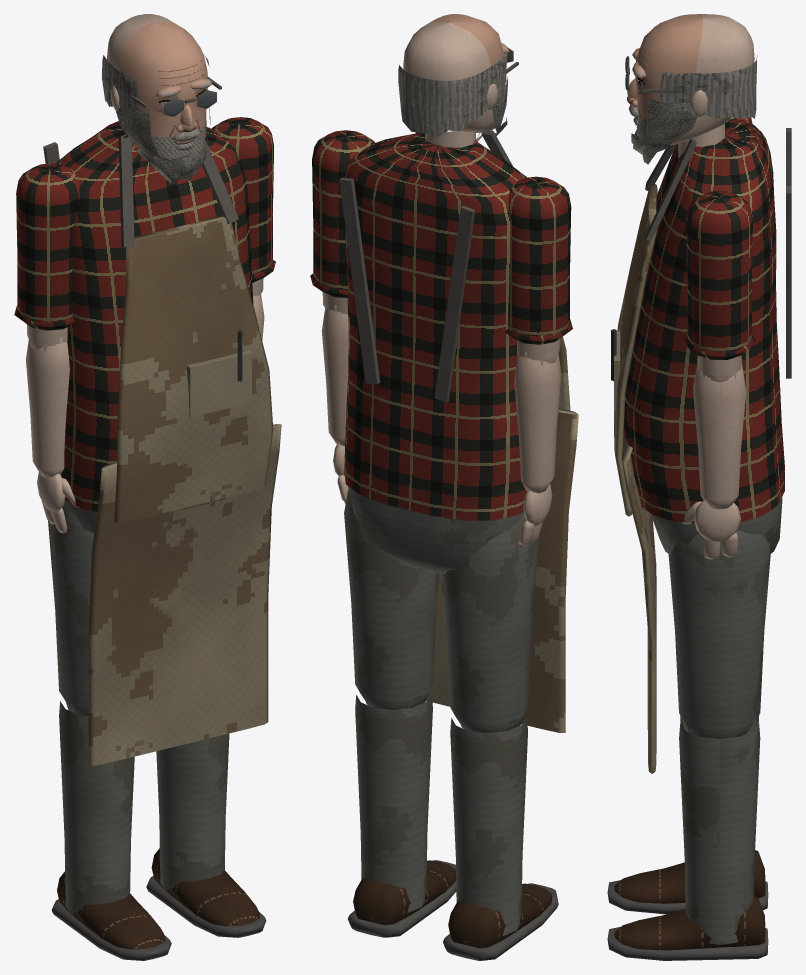
Rendered from char_grady.glb.
3 renders of one model, left to right at view 1: azimuth 30°, elevation 25°; view 2: azimuth 150°, elevation 25°; view 3: azimuth 270°, elevation 25°, orthographic.
Parts seen in each view (by area): view 1: Spine, Hips, Head, ShinR, UpperArmR, ShinL, ThighR, UpperArmL, ForearmR, FootR, FootL, HandR; view 2: Spine, Hips, ThighR, ShinL, ShinR, ThighL, Head, UpperArmR, UpperArmL, ForearmR, FootR, FootL (+2 smaller); view 3: Spine, ThighL, Head, ShinL, UpperArmL, ForearmL, FootL, Hips, FootR, HandL.
Boxes of the visible parts, bbox=[...] form: Spine: bbox=[43, 121, 273, 522]; Hips: bbox=[63, 424, 281, 765]; Head: bbox=[102, 14, 221, 183]; ShinR: bbox=[59, 701, 134, 917]; UpperArmR: bbox=[14, 163, 79, 347]; ShinL: bbox=[156, 733, 229, 894]; ThighR: bbox=[48, 506, 94, 711]; UpperArmL: bbox=[212, 117, 275, 296]; ForearmR: bbox=[26, 337, 69, 478]; FootR: bbox=[51, 871, 171, 960]; FootL: bbox=[146, 848, 266, 937]; HandR: bbox=[37, 472, 79, 533]; Spine: bbox=[339, 130, 570, 520]; Hips: bbox=[348, 408, 578, 732]; ThighR: bbox=[442, 514, 538, 733]; ShinL: bbox=[355, 688, 432, 912]; ShinR: bbox=[450, 711, 527, 935]; ThighL: bbox=[344, 489, 439, 710]; Head: bbox=[398, 14, 518, 147]; UpperArmR: bbox=[505, 176, 572, 361]; UpperArmL: bbox=[310, 130, 375, 313]; ForearmR: bbox=[514, 351, 561, 493]; FootR: bbox=[443, 883, 558, 960]; FootL: bbox=[348, 860, 456, 937]; Spine: bbox=[611, 119, 791, 522]; ThighL: bbox=[668, 530, 770, 737]; Head: bbox=[625, 14, 757, 164]; ShinL: bbox=[679, 715, 760, 944]; UpperArmL: bbox=[683, 190, 755, 377]; ForearmL: bbox=[693, 359, 745, 509]; FootL: bbox=[607, 896, 768, 960]; Hips: bbox=[621, 435, 782, 773]; FootR: bbox=[607, 850, 768, 914]; HandL: bbox=[682, 500, 740, 559].
Bounding box in the file's own units: 0.5082 × 1.74 × 0.3197.
12 materials, 12 textured.
